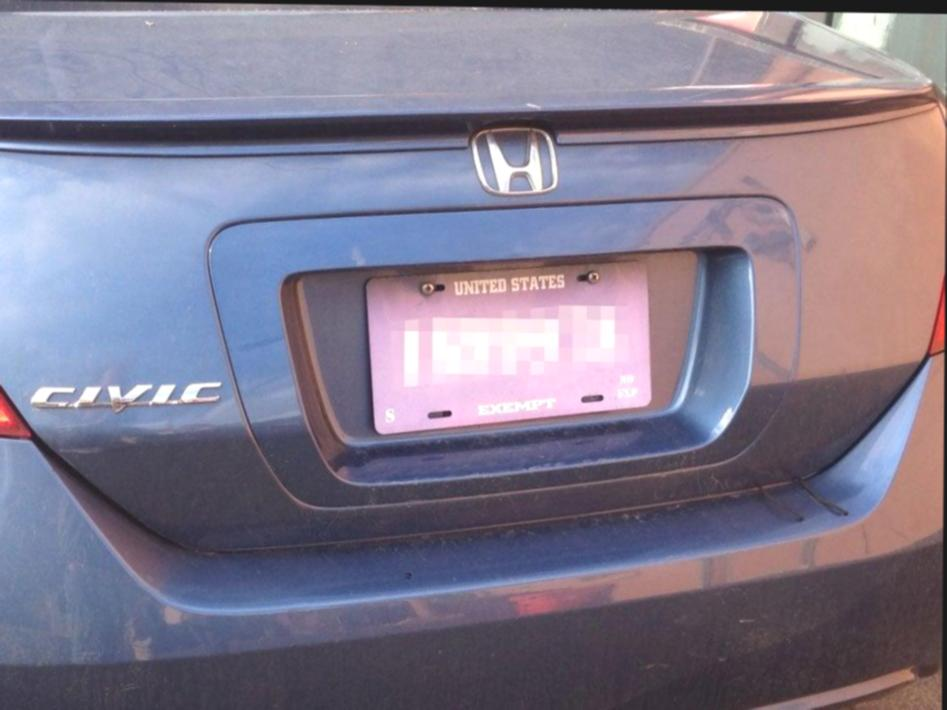License_Plate: (347, 246, 659, 444)
